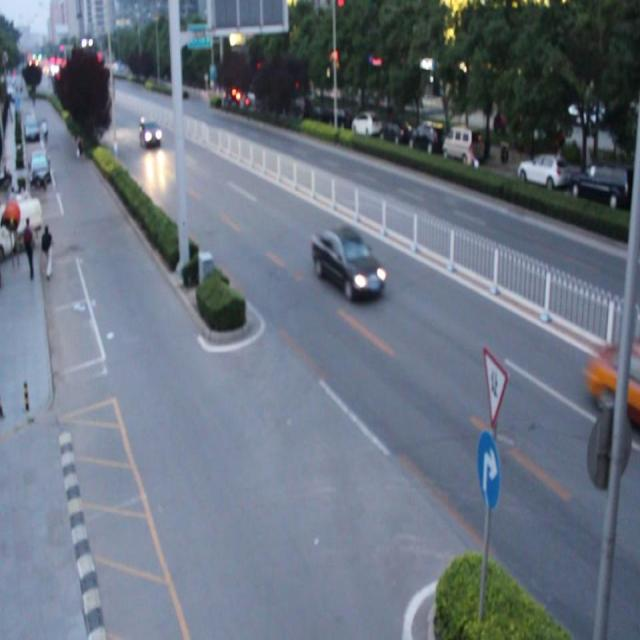car: (313, 224, 387, 300)
